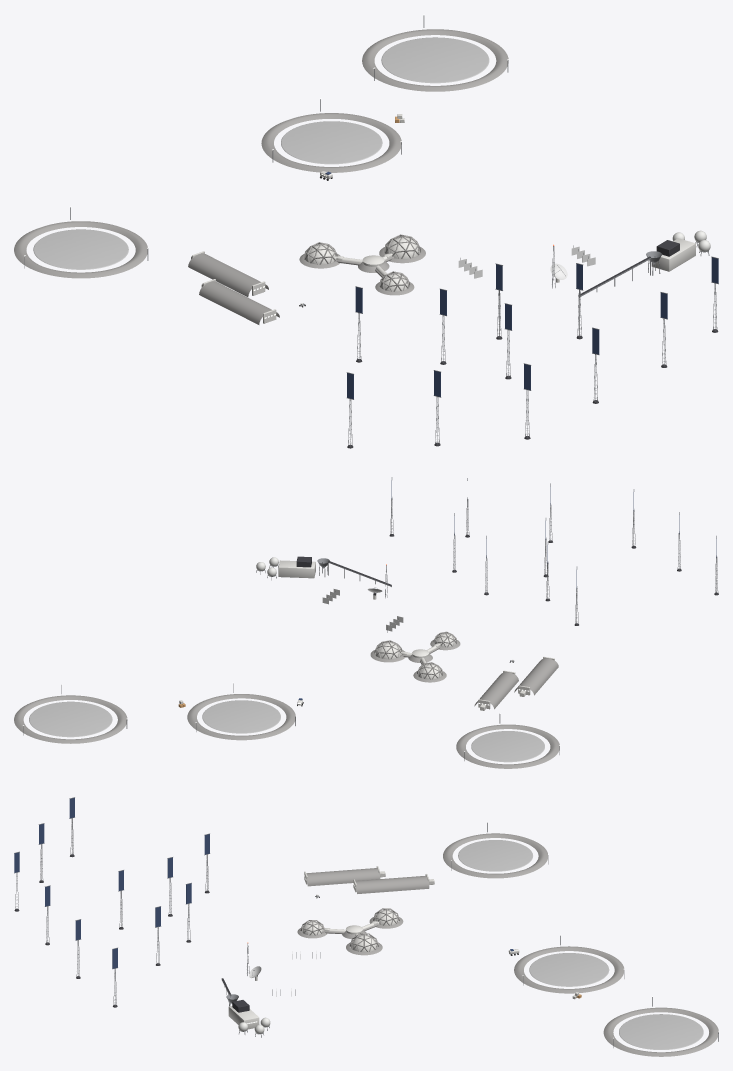
File: moonbase.glb
The picture shows the model from 3 angles, top to bottom: view 1: azimuth 30°, elevation 25°; view 2: azimuth 150°, elevation 25°; view 3: azimuth 270°, elevation 25°; orthographic projection. The views are drawn at different scales.
Parts seen in each view (by area): view 1: moonbase; view 2: moonbase; view 3: moonbase.
Boxes of the visible parts, <box> form: moonbase: <box>14,14,718,448</box>; moonbase: <box>14,477,718,768</box>; moonbase: <box>14,797,718,1056</box>.
Bounding box in the file's own units: 433 × 53.02 × 574.
